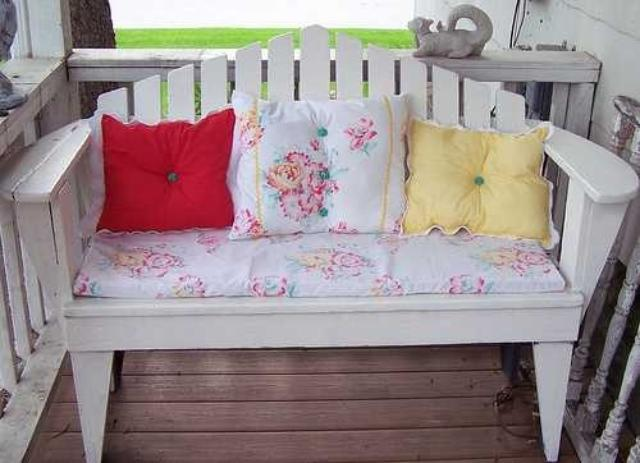pillow: (225, 90, 408, 240), (401, 114, 559, 250), (95, 104, 235, 234)
